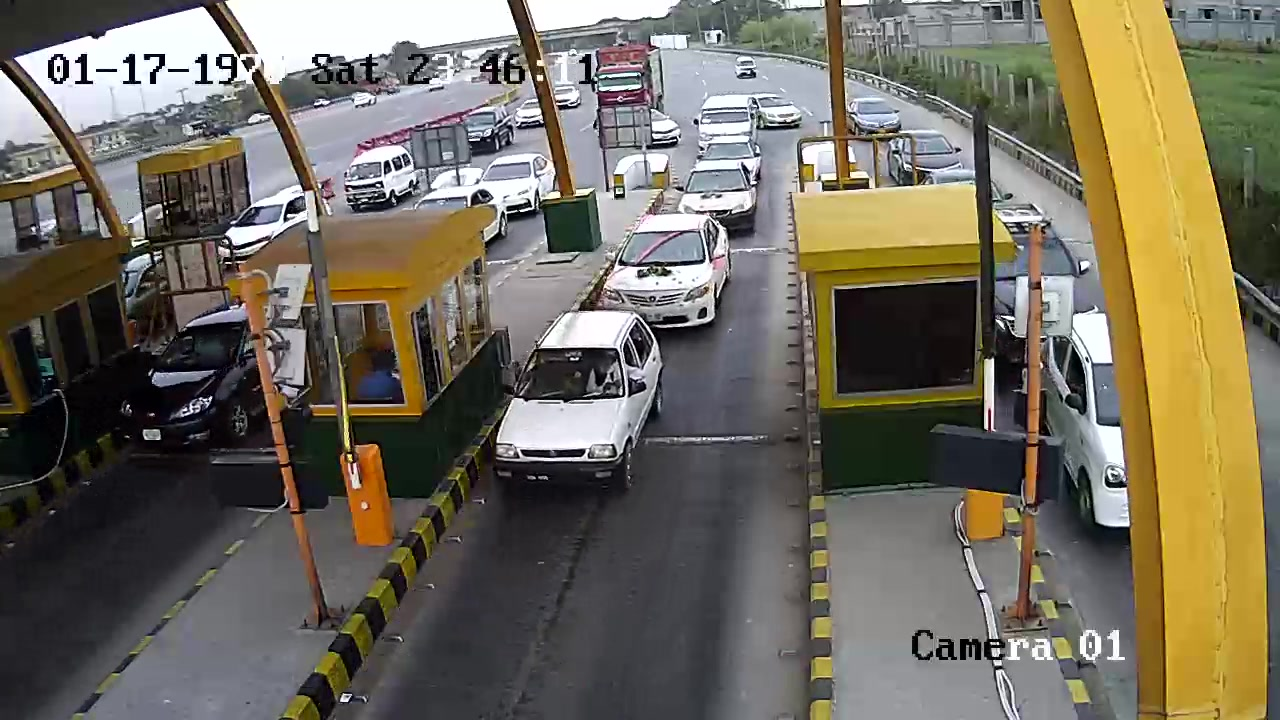F1: (487, 306, 672, 502)
